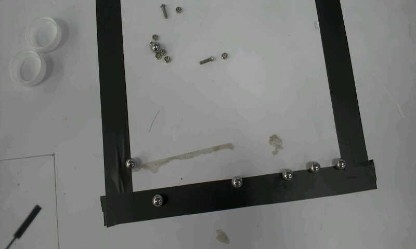ironball: (308, 161, 320, 173), (151, 194, 162, 206), (281, 169, 292, 180), (231, 176, 242, 187), (335, 158, 345, 170), (124, 158, 134, 169), (149, 41, 159, 50)
